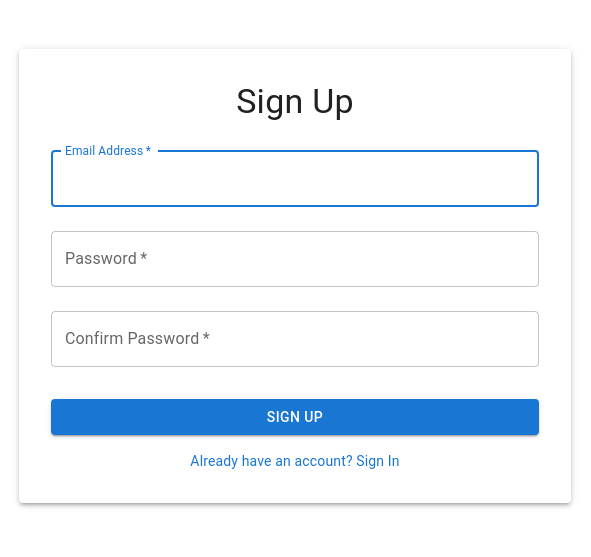
RegisterPage › should validate minimum password length
The width and height of the screenshot is (591, 557).
In the field labelled "Email Address": point(295, 179) [51,151,539,207], type "test@example.com"
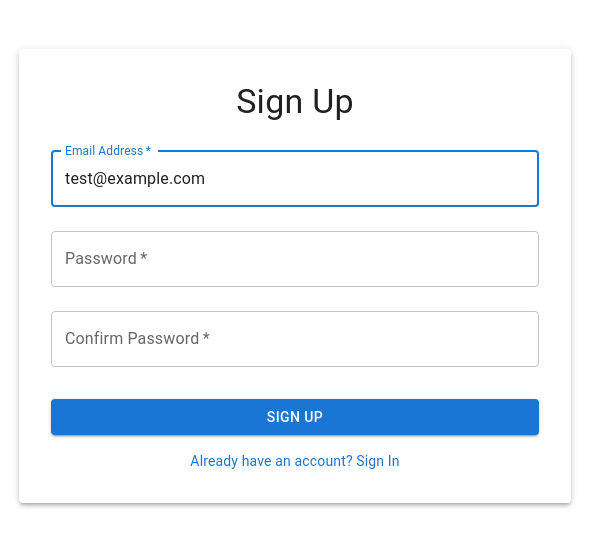
In the password field labelled "Password *": point(295, 259) [51,231,539,287], type "short"
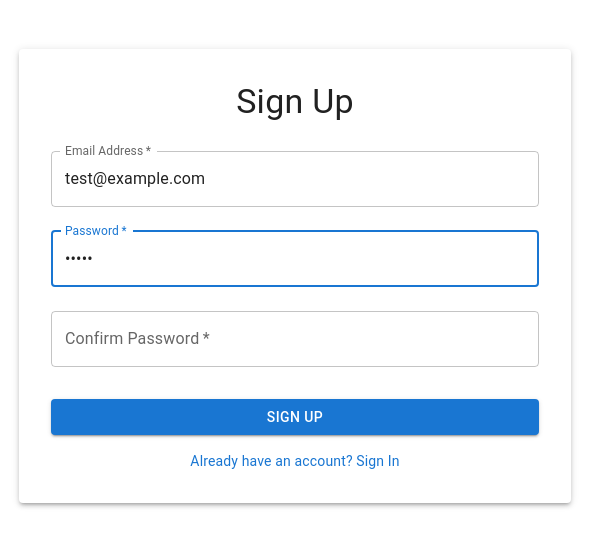
In the password field labelled "Confirm Password *": point(295, 339) [51,311,539,367], type "short"
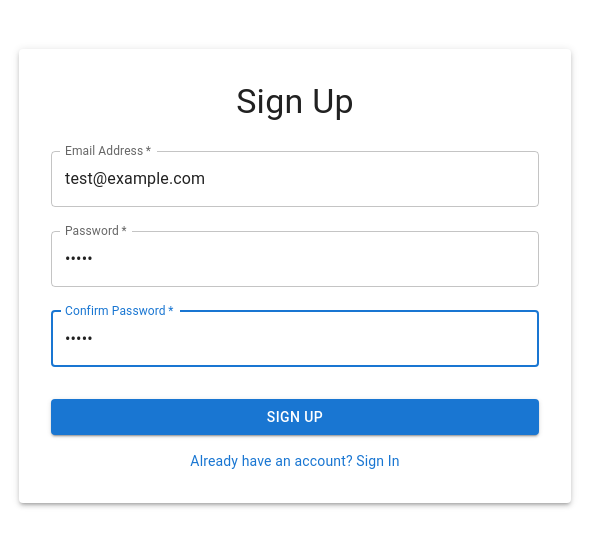
Click the button "Sign Up": point(295, 417) [51,399,539,435]
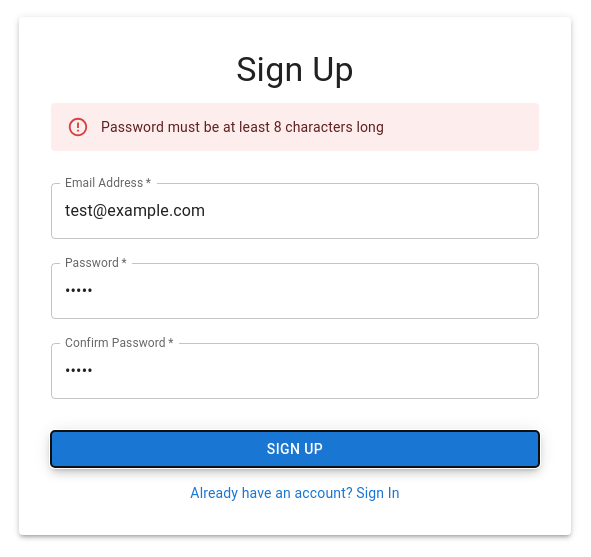
Now the text "Password must be at least 8 characters long" is shown, box [101,119,384,135]
